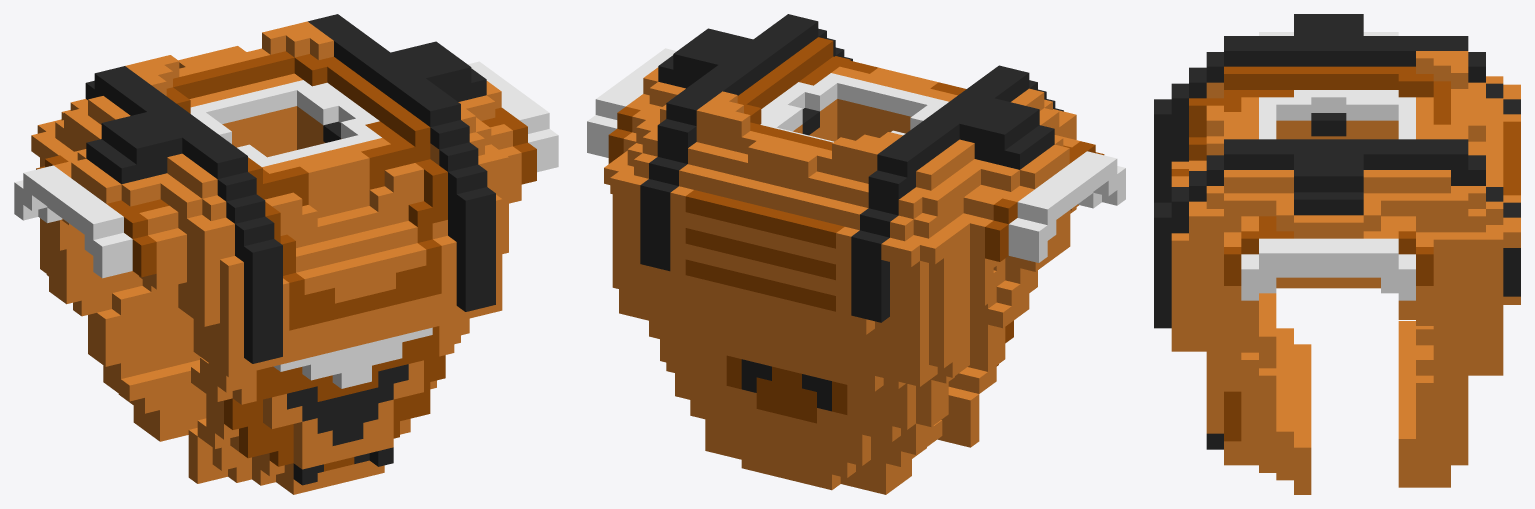
File: Armor_Orange.obj
3 views of the same model, side by side, from view 1: azimuth 30°, elevation 25°; view 2: azimuth 150°, elevation 25°; view 3: azimuth 270°, elevation 25° (orthographic).
Size of the model in its own units: 3 by 2.2 by 2.1.
1 material, 1 textured.
